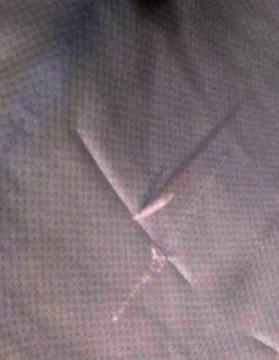snag: (118, 175, 181, 233)
